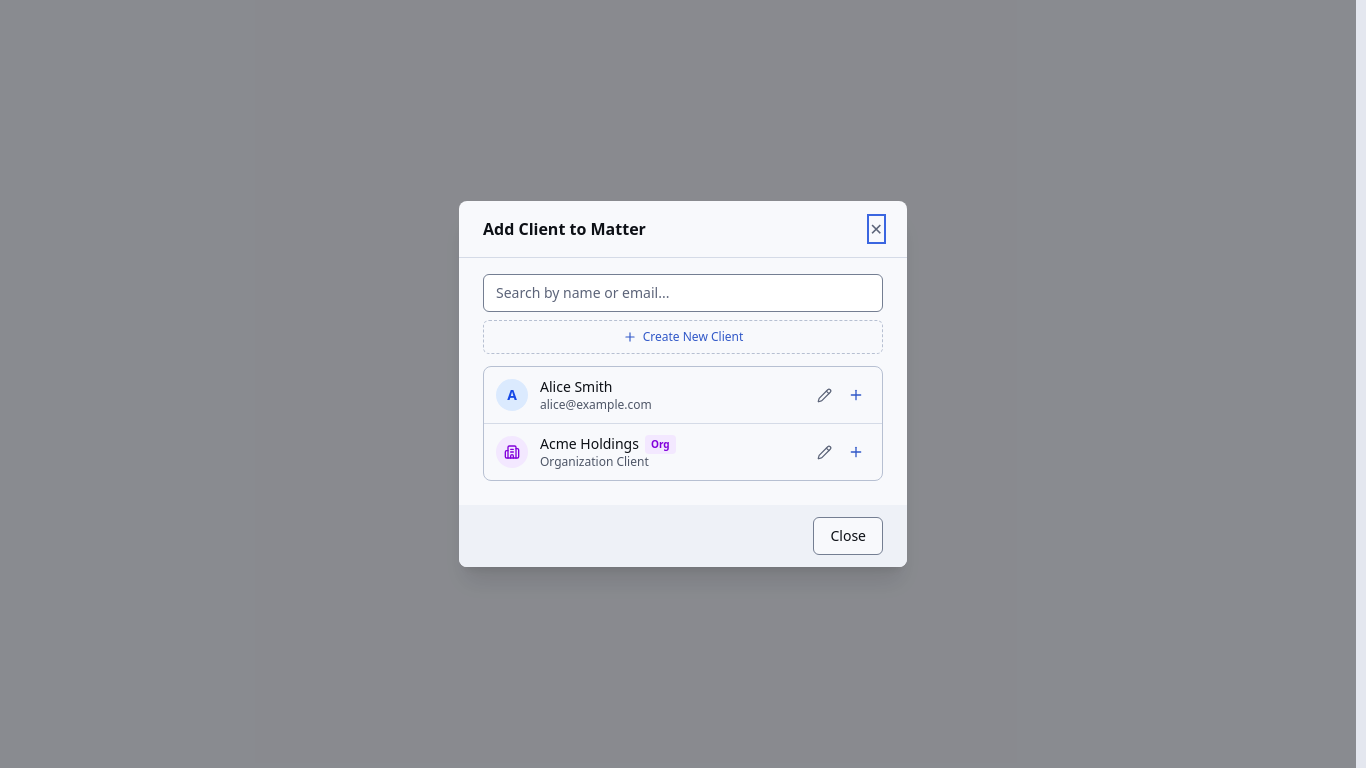
it: the client type when editing an existing client › shows an organization client type as text, not a picker
What coordinates should you click on to do the following:
click the button named "Edit Client" in the row of "Organization Client"
I would click on:
 (824, 452)
Its box is [811, 438, 838, 466].
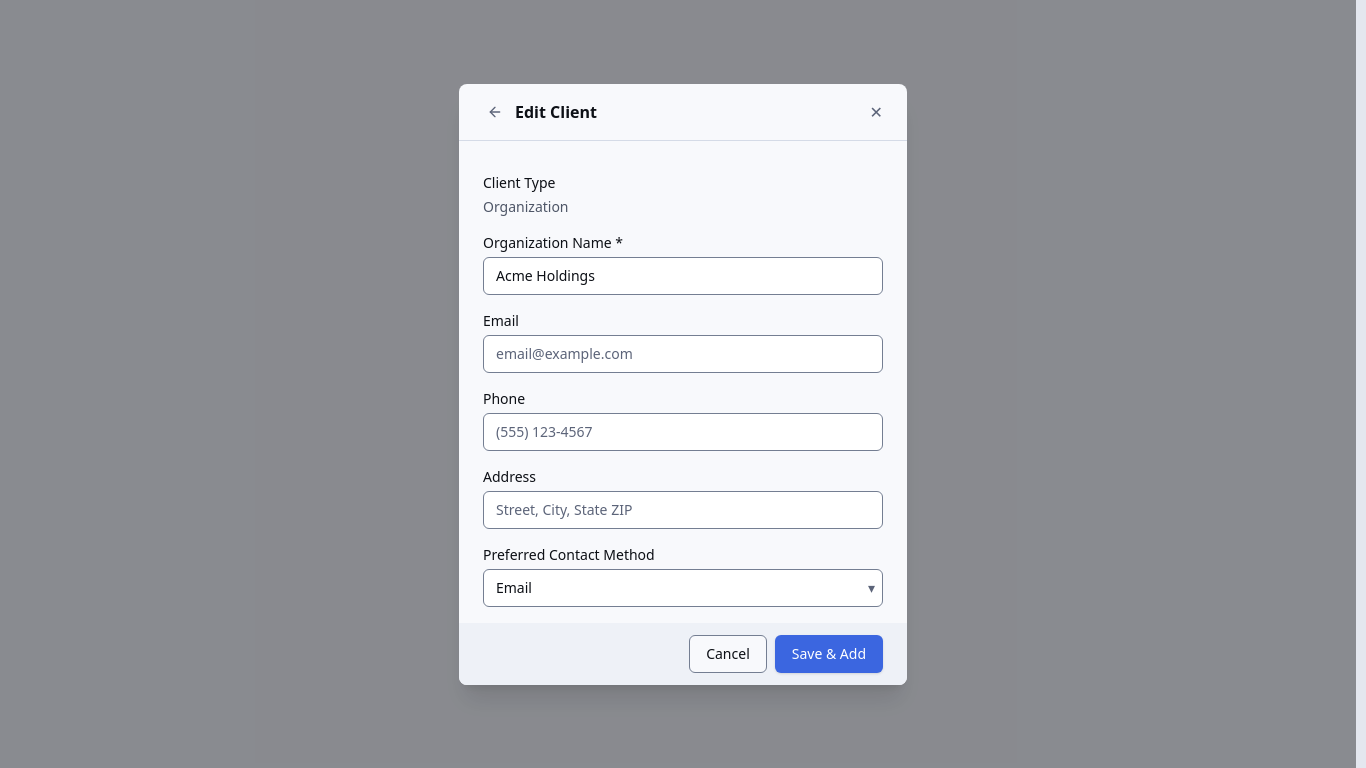
Now the heading "Edit Client" is shown, box [515, 100, 597, 124]
Now the text "Organization Name *" is shown, box [483, 232, 623, 252]
Now the text "Client Type" is shown, box [483, 172, 556, 192]
